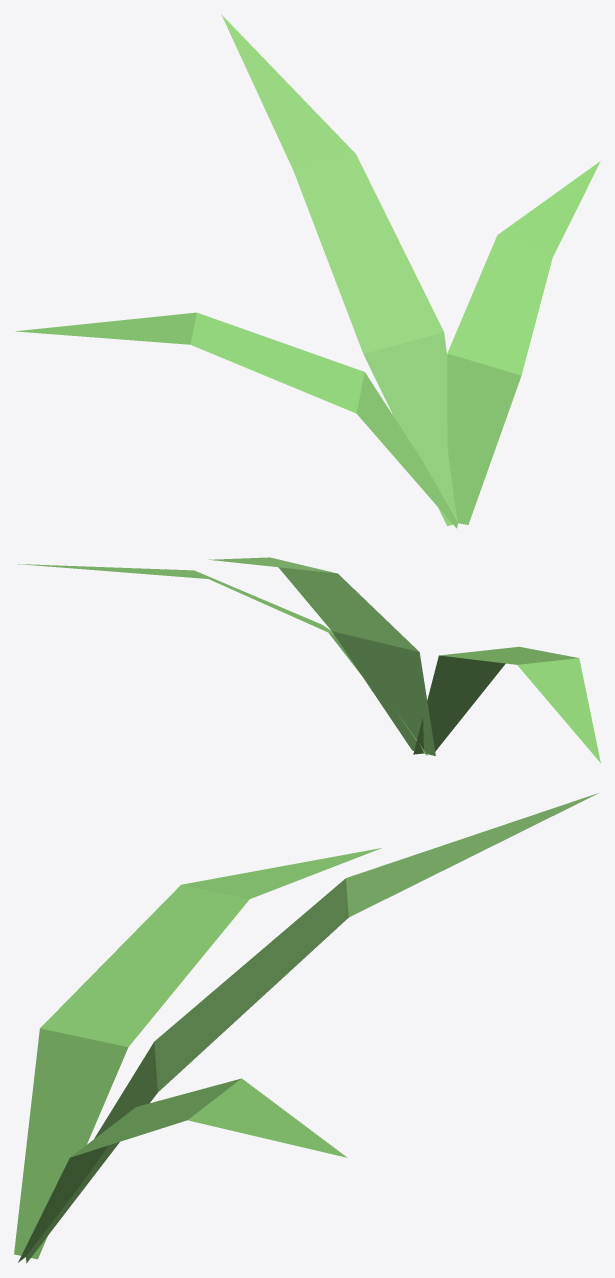
Rendered from Plant_e_OneS_03.fbx.
3 renders of one model, top to bottom at view 1: azimuth 30°, elevation 25°; view 2: azimuth 150°, elevation 25°; view 3: azimuth 270°, elevation 25°, orthographic. The views are drawn at different scales.
Visible parts, largest first — view 1: Plant_e_OneS_03; view 2: Plant_e_OneS_03; view 3: Plant_e_OneS_03.
Boxes of the visible parts, left/top/right/bottom form: Plant_e_OneS_03: left=15, top=14, right=600, bottom=528; Plant_e_OneS_03: left=18, top=557, right=600, bottom=762; Plant_e_OneS_03: left=14, top=793, right=598, bottom=1263.
Size of the model in its own units: 66.34 by 38.91 by 45.33.
